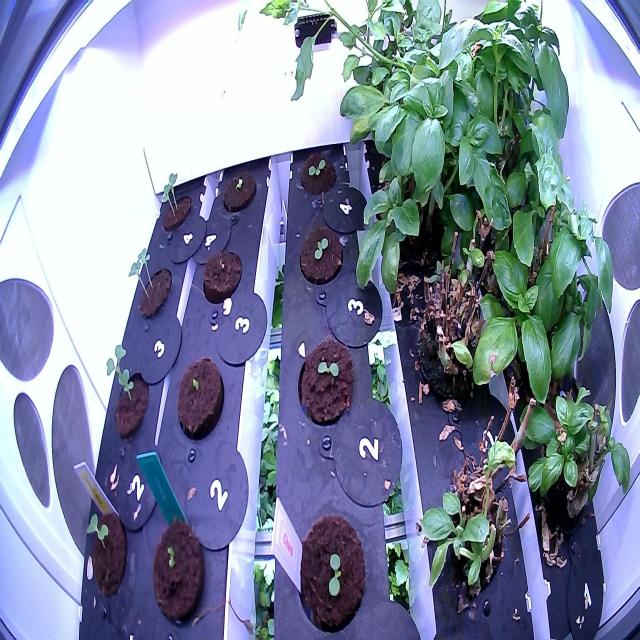germination: (292, 508, 367, 631), (292, 332, 358, 436), (147, 516, 208, 628), (170, 354, 227, 445), (81, 507, 130, 602), (103, 341, 149, 439), (126, 240, 175, 326), (297, 222, 344, 289), (154, 167, 198, 236), (217, 162, 260, 216), (297, 150, 339, 199)
pod: (198, 239, 246, 309)
